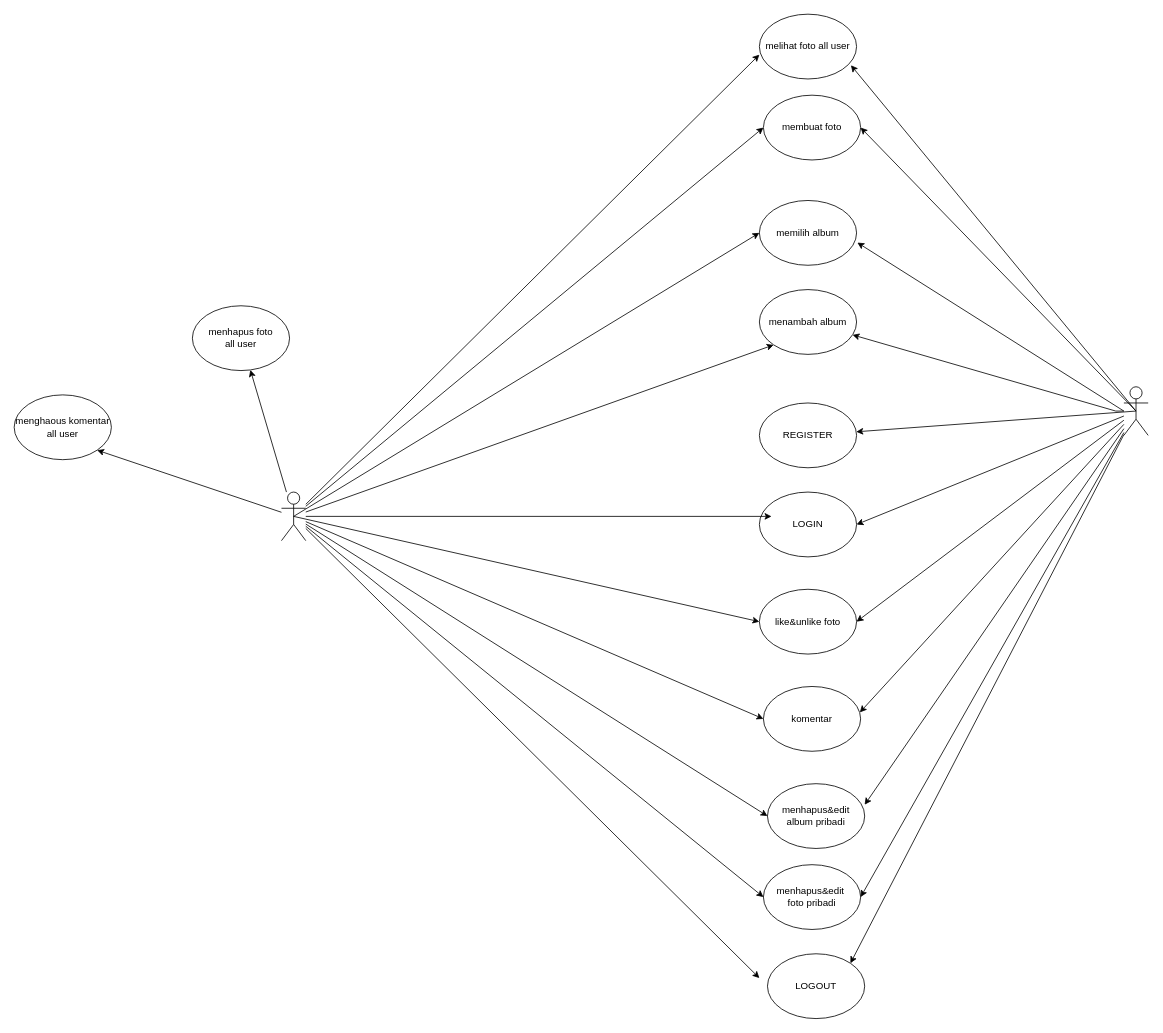
Image size: 1163x1033. Some labels were removed from this diagram. Here are the shapes that lost their labels. From the top down, the box of each, then its label:
(1123, 386, 1148, 435): USER
(281, 491, 306, 541): ADMIN
